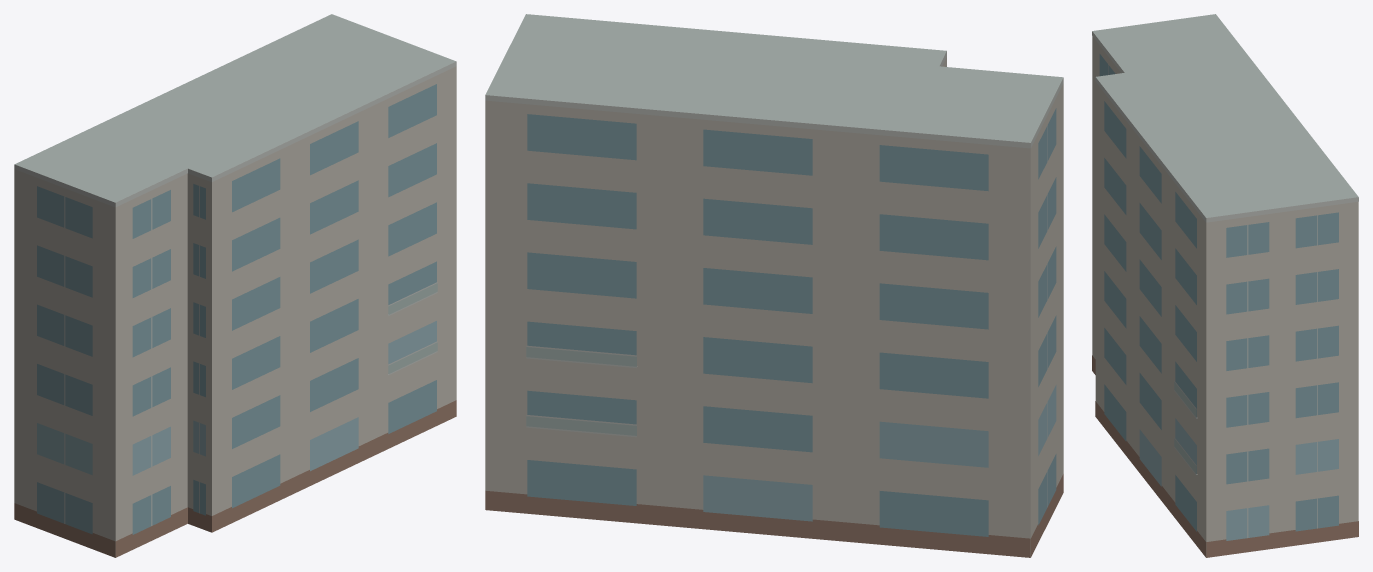
Rendered from survey-upis-32557680.glb.
The picture shows the model from 3 angles, left to right: view 1: azimuth 30°, elevation 25°; view 2: azimuth 150°, elevation 25°; view 3: azimuth 270°, elevation 25°; orthographic projection. The views are drawn at different scales.
Parts seen in each view (by area): view 1: survey-upis-32557680.tmp; view 2: survey-upis-32557680.tmp; view 3: survey-upis-32557680.tmp.
Boxes of the visible parts, bbox=[...] form: survey-upis-32557680.tmp: bbox=[14, 14, 456, 557]; survey-upis-32557680.tmp: bbox=[485, 14, 1063, 557]; survey-upis-32557680.tmp: bbox=[1092, 14, 1358, 557].
Bounding box in the file's own units: 23.58 × 18.3 × 13.03.
